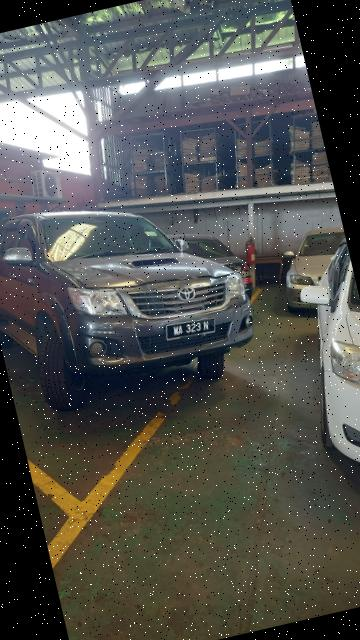License_Plate: (165, 314, 218, 349)
car: (1, 156, 272, 435)
